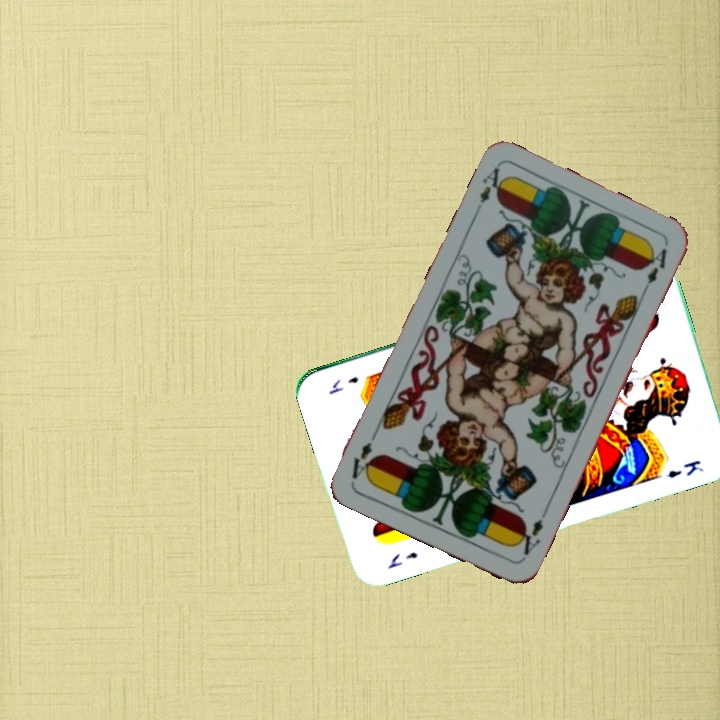EA: (470, 163, 510, 218), (512, 506, 551, 558)
EK: (383, 548, 421, 571)
